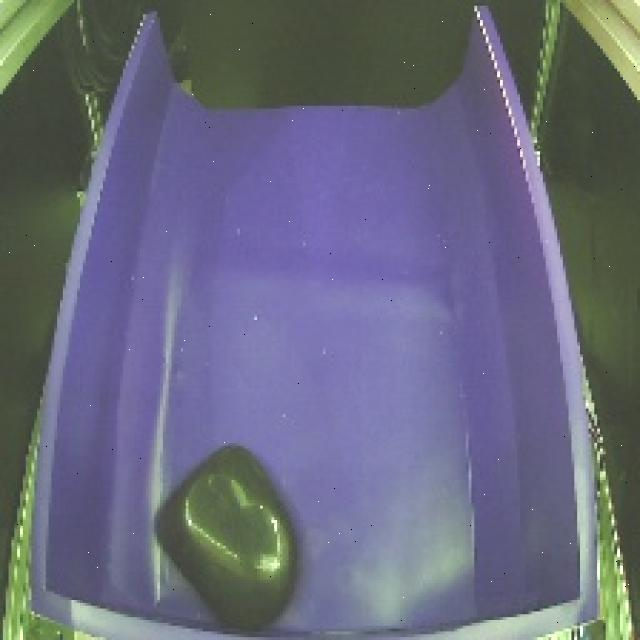cobbles: (146, 436, 318, 635)
